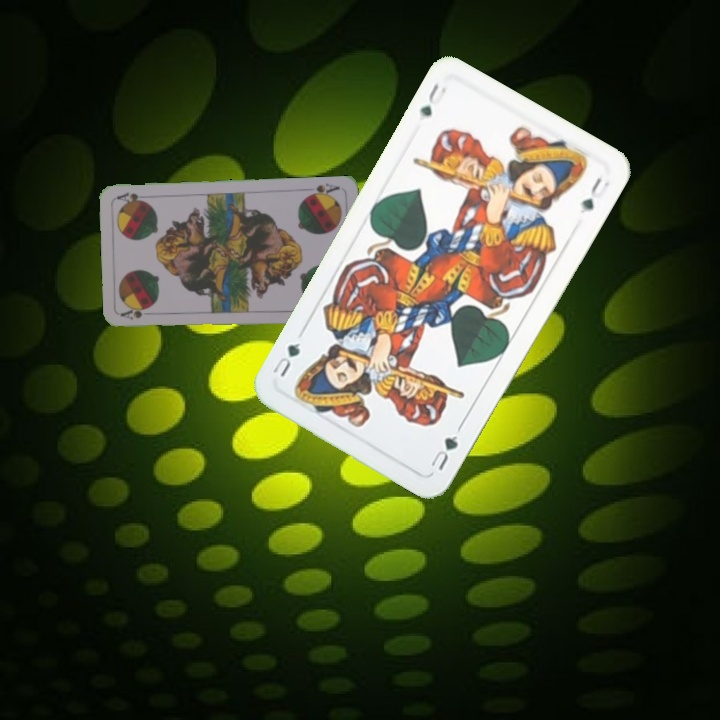GU: (427, 430, 461, 473), (416, 78, 449, 120)
SA: (302, 179, 342, 200), (118, 307, 158, 322)
